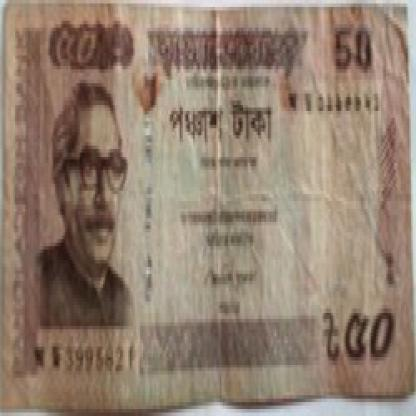Fifty taka: (332, 305, 402, 374), (46, 17, 102, 94)
